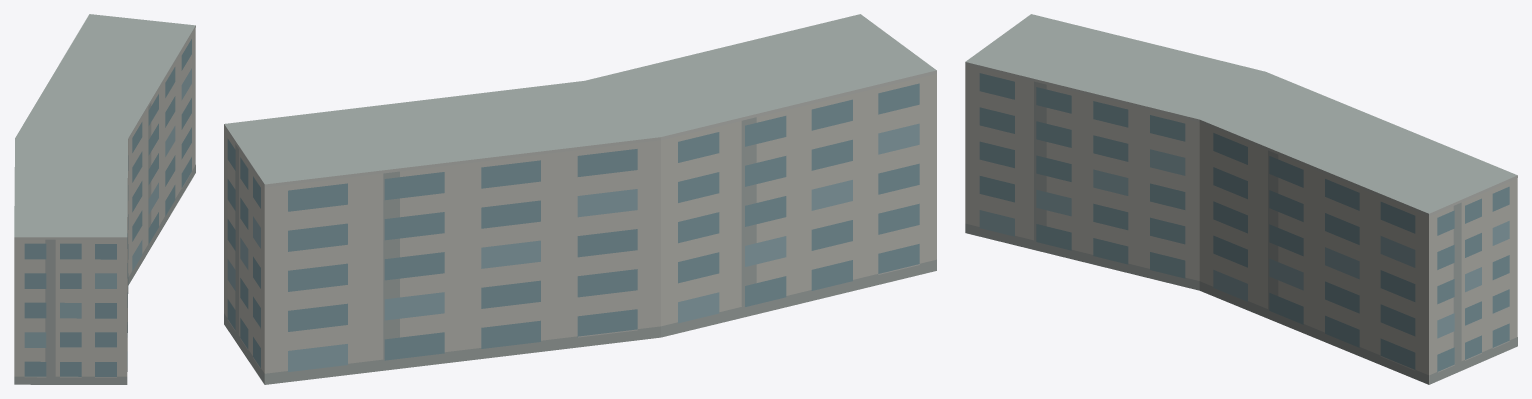
The model's file is residential-a307d4a5-8e93-4868-afca-7ed13539353b.glb.
3 views of the same model, side by side, from view 1: azimuth 30°, elevation 25°; view 2: azimuth 150°, elevation 25°; view 3: azimuth 270°, elevation 25° (orthographic). The views are drawn at different scales.
Visible parts, largest first — view 1: residential-a307d4a5-8e93-4868-afca-7ed13539353b.tmp; view 2: residential-a307d4a5-8e93-4868-afca-7ed13539353b.tmp; view 3: residential-a307d4a5-8e93-4868-afca-7ed13539353b.tmp.
Part boxes in pixels (x1,y1,x2,y2): residential-a307d4a5-8e93-4868-afca-7ed13539353b.tmp: (14,14,195,384); residential-a307d4a5-8e93-4868-afca-7ed13539353b.tmp: (224,14,936,384); residential-a307d4a5-8e93-4868-afca-7ed13539353b.tmp: (965,14,1517,384).
Bounding box in the file's own units: 38.2 × 15.25 × 44.64.
